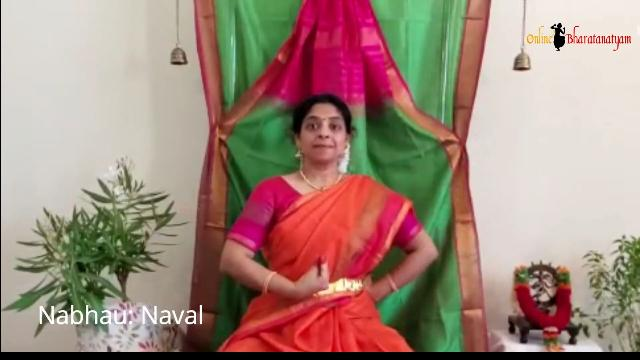mukul: (284, 246, 342, 332)
